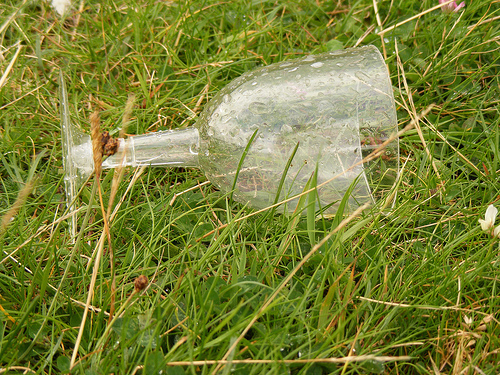litter: (57, 44, 398, 246)
